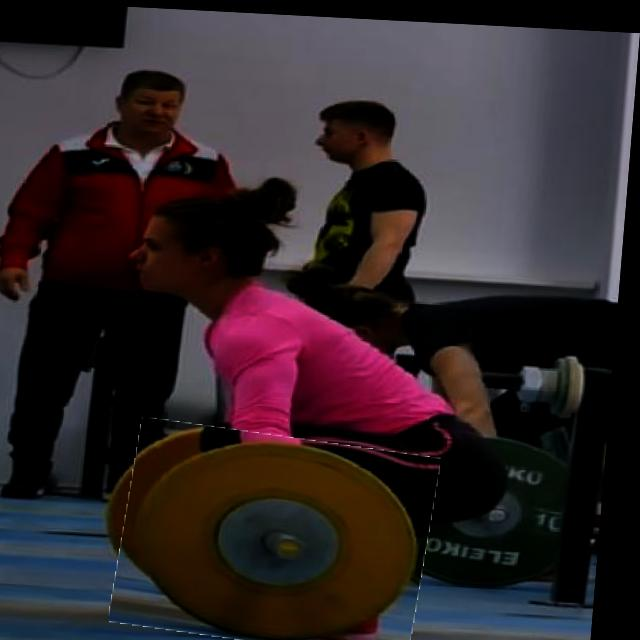barbell: (123, 422, 446, 640)
